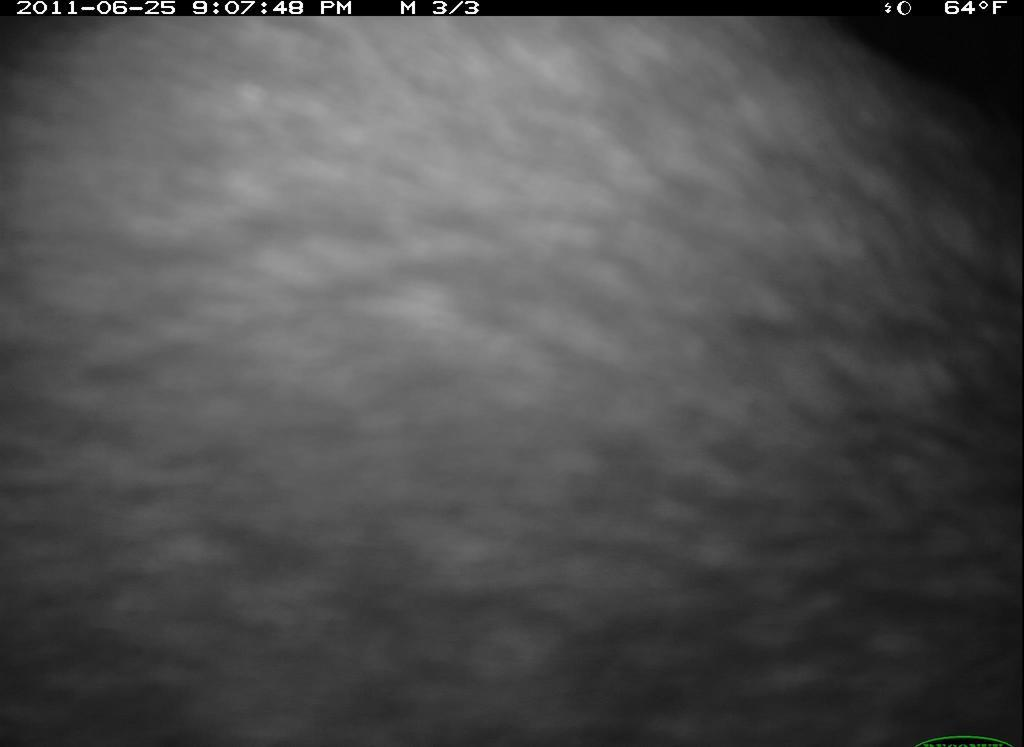raccoon: (11, 15, 1023, 747)
